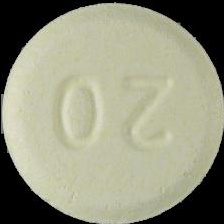0093-5248: (0, 0, 224, 224)
